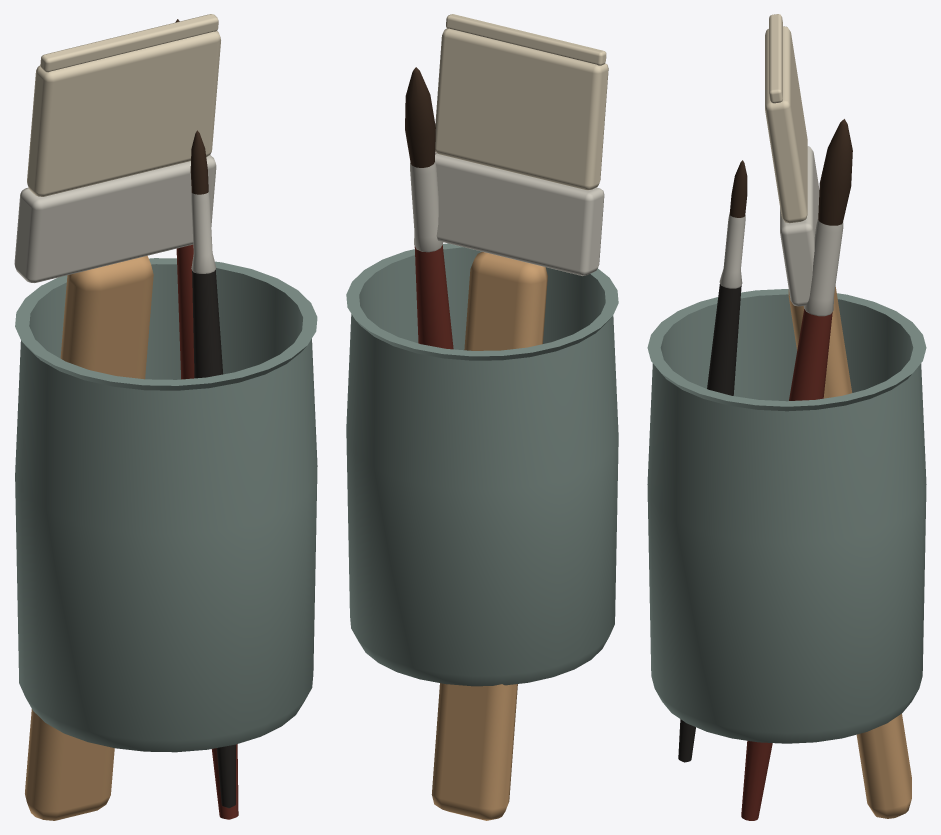
File: brushes.glb
The picture shows the model from 3 angles, left to right: view 1: azimuth 30°, elevation 25°; view 2: azimuth 150°, elevation 25°; view 3: azimuth 270°, elevation 25°; orthographic projection. The views are drawn at different scales.
Parts seen in each view (by area): view 1: Brush_Pot_Body, Brush_Wash_Hair, Brush_Wash_Handle, Brush_Wash_Ferrule, Brush_Round4_Handle, Brush_Wash_HairEdge, Brush_Round12_Handle, Brush_Round4_Ferrule, Brush_Round4_Hair; view 2: Brush_Pot_Body, Brush_Wash_Hair, Brush_Wash_Handle, Brush_Wash_Ferrule, Brush_Round12_Handle, Brush_Wash_HairEdge, Brush_Round12_Hair, Brush_Round12_Ferrule; view 3: Brush_Pot_Body, Brush_Wash_Handle, Brush_Wash_Hair, Brush_Round12_Handle, Brush_Round4_Handle, Brush_Wash_Ferrule, Brush_Round12_Hair, Brush_Round12_Ferrule, Brush_Round4_Ferrule, Brush_Wash_HairEdge, Brush_Round4_Hair.
Part boxes in pixels (x1,y1,x2,y2): Brush_Pot_Body: (15,258,317,752); Brush_Wash_Hair: (27,31,220,196); Brush_Wash_Handle: (25,255,153,820); Brush_Wash_Ferrule: (14,155,216,282); Brush_Round4_Handle: (192,270,235,808); Brush_Wash_HairEdge: (40,14,218,72); Brush_Round12_Handle: (176,244,238,819); Brush_Round4_Ferrule: (191,191,216,273); Brush_Round4_Hair: (190,130,208,194); Brush_Pot_Body: (346,243,618,686); Brush_Wash_Hair: (435,28,608,190); Brush_Wash_Handle: (431,252,547,820); Brush_Wash_Ferrule: (435,153,604,275); Brush_Round12_Handle: (414,245,453,349); Brush_Wash_HairEdge: (446,14,606,65); Brush_Round12_Hair: (405,67,435,167); Brush_Round12_Ferrule: (410,161,443,252); Brush_Pot_Body: (647,289,926,743); Brush_Wash_Handle: (788,286,911,818); Brush_Wash_Hair: (765,26,807,223); Brush_Round12_Handle: (741,309,832,820); Brush_Round4_Handle: (678,284,741,762); Brush_Wash_Ferrule: (780,146,819,306); Brush_Round12_Hair: (818,119,852,225); Brush_Round12_Ferrule: (804,219,843,316); Brush_Round4_Ferrule: (719,214,745,288); Brush_Wash_HairEdge: (769,14,782,103); Brush_Round4_Hair: (729,160,747,217).
Bounding box in the file's own units: 0.075 × 0.2216 × 0.074.
